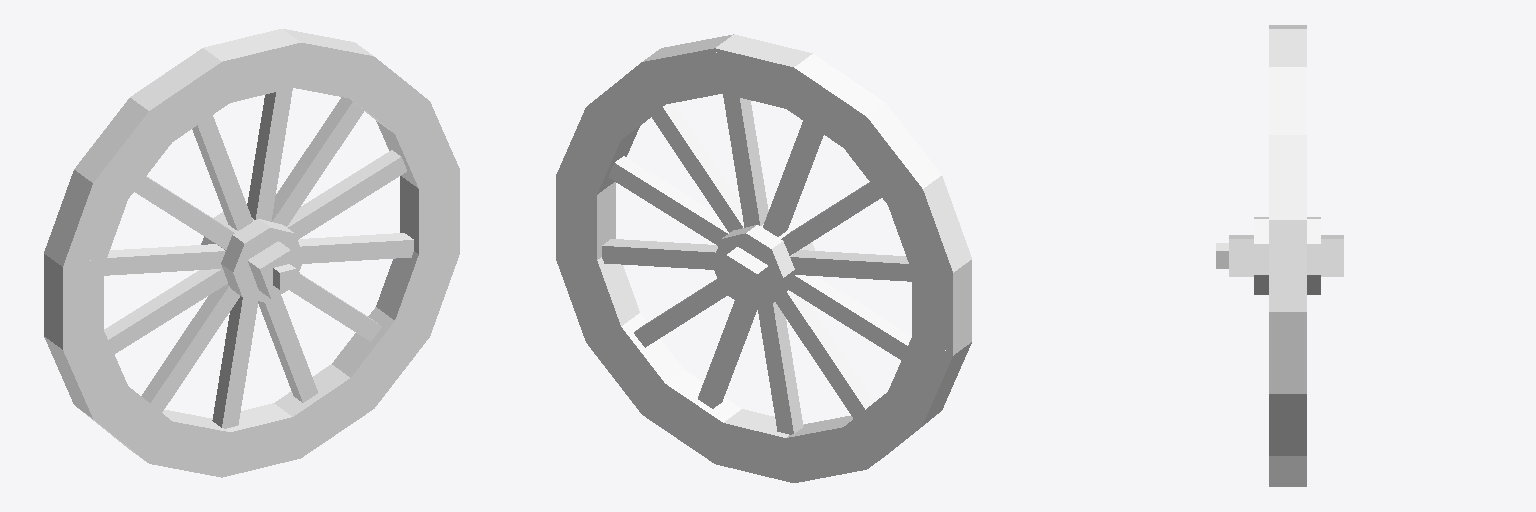
Rendered from mt_wheel_m.obj.
3 views of the same model, side by side, from view 1: azimuth 30°, elevation 25°; view 2: azimuth 150°, elevation 25°; view 3: azimuth 270°, elevation 25° (orthographic).
Visible parts, largest first — view 1: cube.007, cube.003, cube.006, cube.005, hexadecagon.003, cube.001, hexadecagon.005, hexadecagon.001, hexadecagon.011, hexadecagon.004, hexadecagon.002, hexadecagon.013 (+15 smaller); view 2: cube.007, cube.003, cube.006, cube.005, hexadecagon.004, hexadecagon.002, cube.001, hexadecagon.003, hexadecagon.012, hexadecagon.010, hexadecagon.006, hexadecagon.005 (+14 smaller); view 3: hexadecagon.014, hexadecagon, hexadecagon.013, hexadecagon.000, hexadecagon.012, cube.002, hexadecagon.001, hexadecagon.011, octagon.001, octagon.000, octagon.002.
Part boxes in pixels (left/top/right/bottom): cube.007: left=141, top=97, right=364, bottom=412; cube.003: left=104, top=150, right=406, bottom=354; cube.006: left=212, top=88, right=292, bottom=428; cube.005: left=104, top=233, right=413, bottom=275; hexadecagon.003: left=74, top=98, right=177, bottom=206; cube.001: left=192, top=115, right=317, bottom=402; hexadecagon.005: left=44, top=254, right=103, bottom=349; hexadecagon.001: left=204, top=29, right=300, bottom=104; hexadecagon.011: left=332, top=307, right=429, bottom=408; hexadecagon.004: left=44, top=170, right=127, bottom=266; hexadecagon.002: left=130, top=48, right=229, bottom=141; hexadecagon.013: left=400, top=170, right=459, bottom=262; cube.007: left=651, top=103, right=873, bottom=418; cube.003: left=608, top=156, right=911, bottom=360; cube.006: left=723, top=94, right=803, bottom=434; cube.005: left=602, top=239, right=911, bottom=281; hexadecagon.004: left=885, top=176, right=971, bottom=279; hexadecagon.002: left=778, top=54, right=885, bottom=152; cube.001: left=698, top=121, right=823, bottom=408; hexadecagon.003: left=845, top=103, right=941, bottom=204; hexadecagon.012: left=556, top=252, right=639, bottom=341; hexadecagon.010: left=642, top=370, right=741, bottom=463; hexadecagon.006: left=885, top=330, right=971, bottom=423; hexadecagon.005: left=912, top=260, right=971, bottom=355; hexadecagon.014: left=1269, top=220, right=1306, bottom=311; hexadecagon: left=1269, top=135, right=1306, bottom=219; hexadecagon.013: left=1269, top=312, right=1306, bottom=393; hexadecagon.000: left=1269, top=67, right=1306, bottom=134; hexadecagon.012: left=1269, top=394, right=1306, bottom=455; cube.002: left=1229, top=235, right=1343, bottom=276; hexadecagon.001: left=1269, top=29, right=1306, bottom=66; hexadecagon.011: left=1269, top=456, right=1306, bottom=486; octagon.001: left=1254, top=244, right=1320, bottom=274; octagon.000: left=1254, top=219, right=1320, bottom=243; octagon.002: left=1254, top=275, right=1320, bottom=294.
Size of the model in its own units: 1.5 by 1.5 by 0.4187.